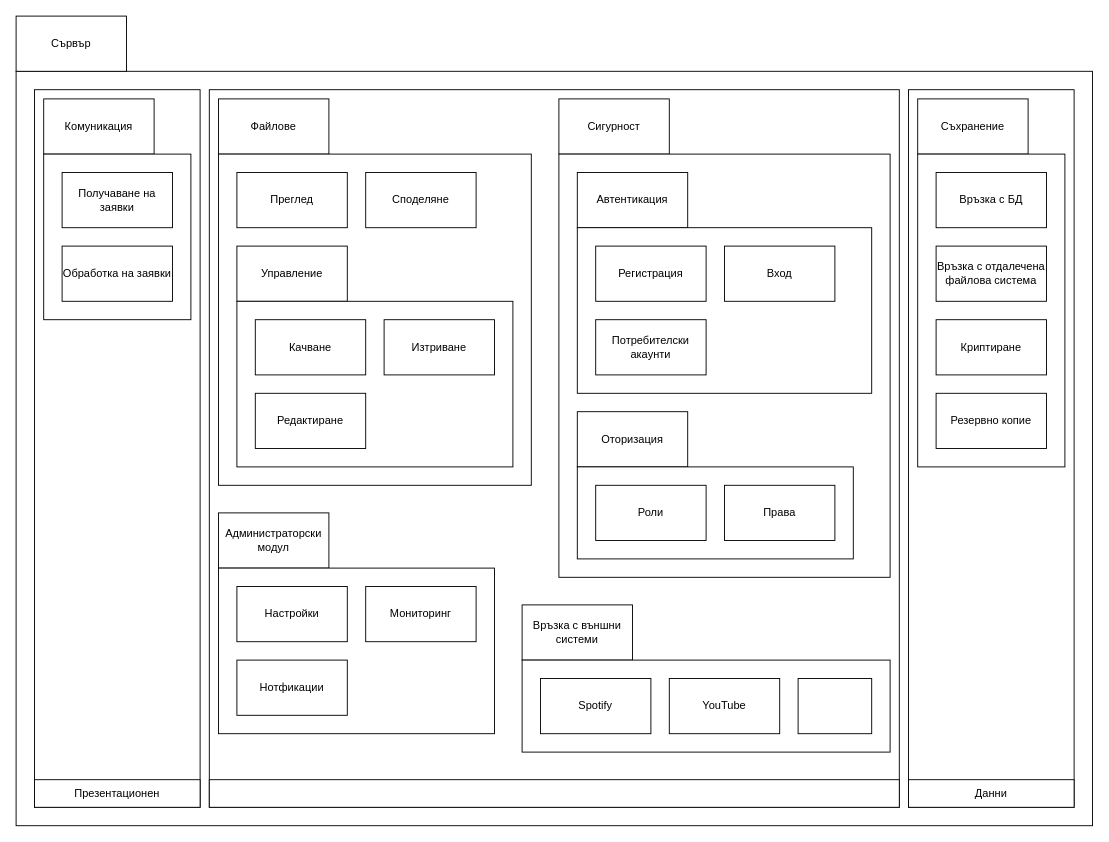
Image size: 1109x842. Some labels were removed from this diagram. Each missing label, with the centre of its shape:
"PayPal" belongs at pixel 834 706.
"Бизнес логика" belongs at pixel 553 793.
